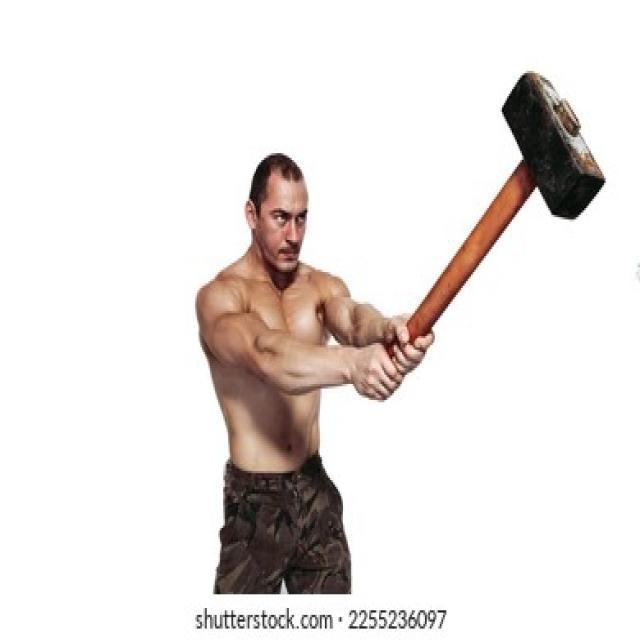hammer: (354, 58, 610, 390)
